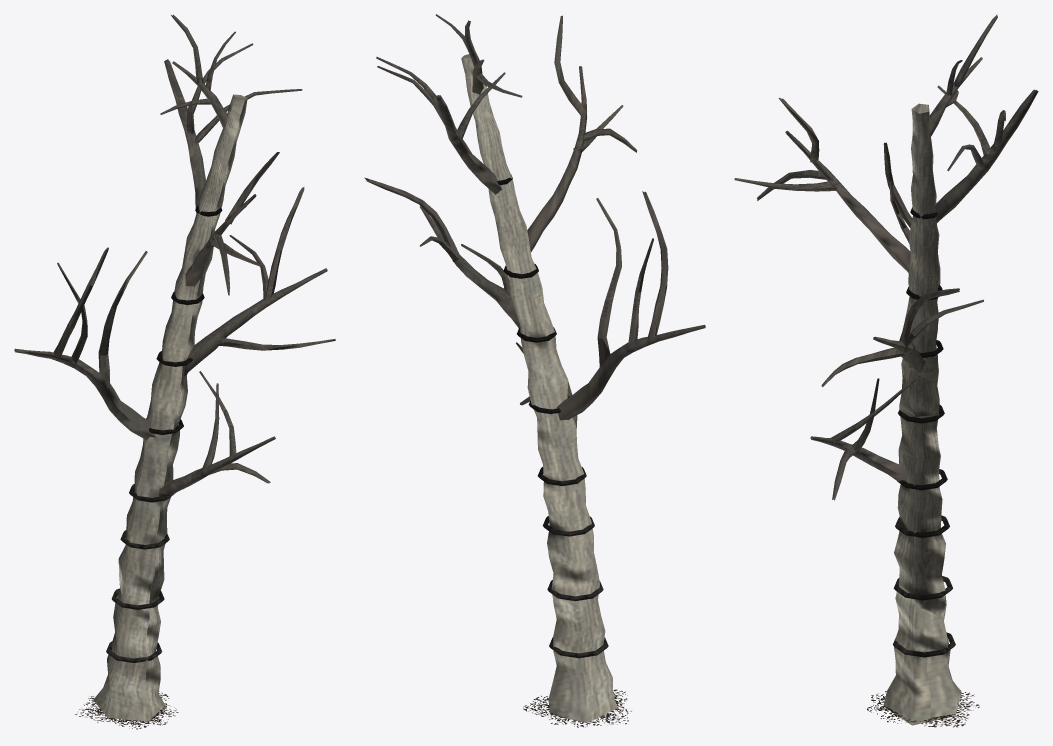
Rendered from tree_leaning_birch.glb.
The picture shows the model from 3 angles, left to right: view 1: azimuth 30°, elevation 25°; view 2: azimuth 150°, elevation 25°; view 3: azimuth 270°, elevation 25°; orthographic projection. The views are drawn at different scales.
Parts seen in each view (by area): view 1: tree_leaning_birch; view 2: tree_leaning_birch; view 3: tree_leaning_birch.
Part boxes in pixels (x1,y1,x2,y2): tree_leaning_birch: (14, 14, 335, 729); tree_leaning_birch: (364, 14, 705, 727); tree_leaning_birch: (734, 14, 1038, 727).
Size of the model in its own units: 1.92 by 3.92 by 1.47.
Materials: 2 (2 with a texture image).
